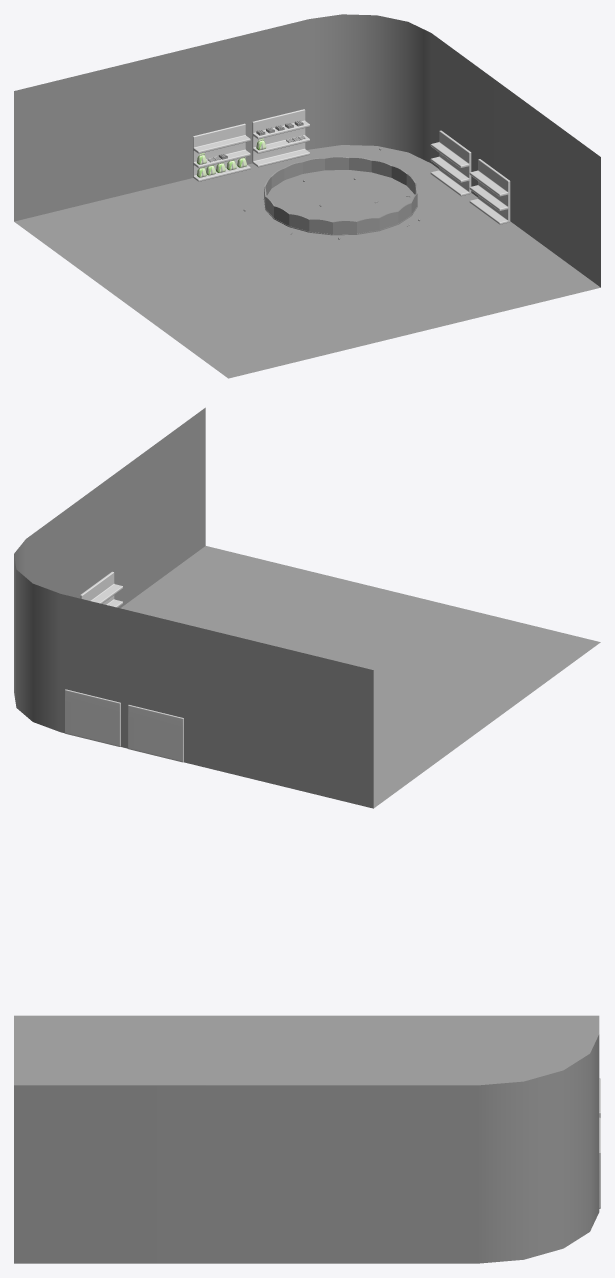
Rendered from SM_DogMiniGame.fbx.
The picture shows the model from 3 angles, top to bottom: view 1: azimuth 30°, elevation 25°; view 2: azimuth 150°, elevation 25°; view 3: azimuth 270°, elevation 25°; orthographic projection. The views are drawn at different scales.
Visible parts, largest first — view 1: SM_DogMinigame; view 2: SM_DogMinigame; view 3: SM_DogMinigame.
Part boxes in pixels (left/top/right/bottom): SM_DogMinigame: left=14, top=14, right=600, bottom=378; SM_DogMinigame: left=14, top=407, right=600, bottom=808; SM_DogMinigame: left=14, top=1015, right=600, bottom=1263.
Size of the model in its own units: 2943 by 992 by 2942.
